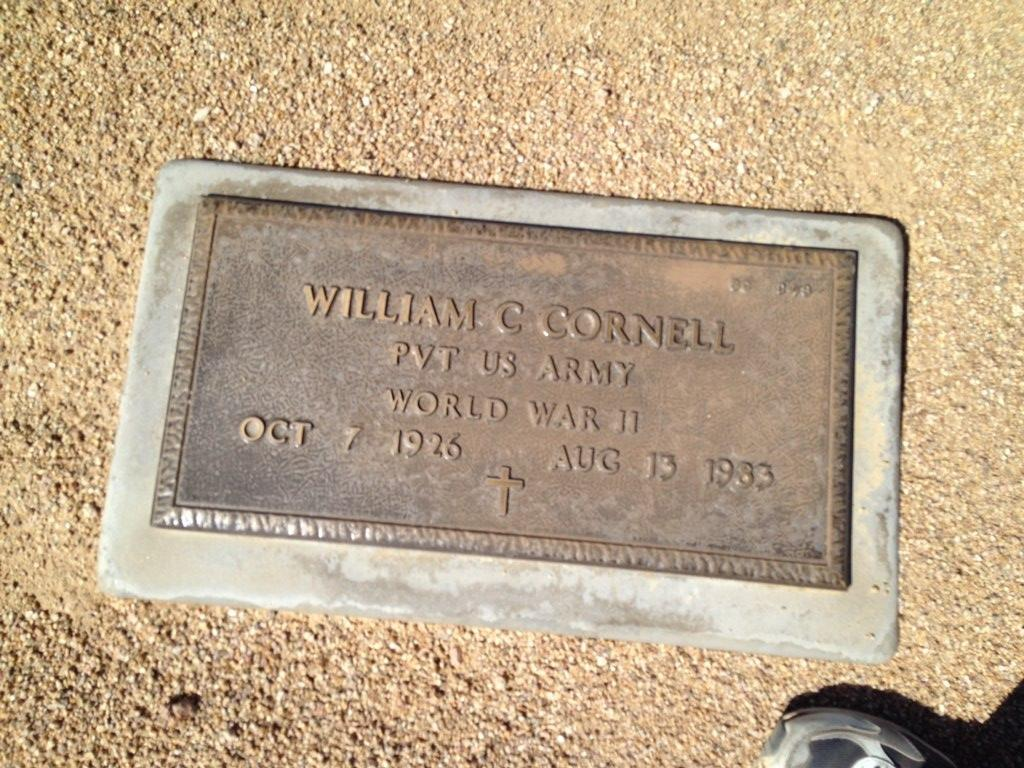flat: (102, 158, 908, 666)
